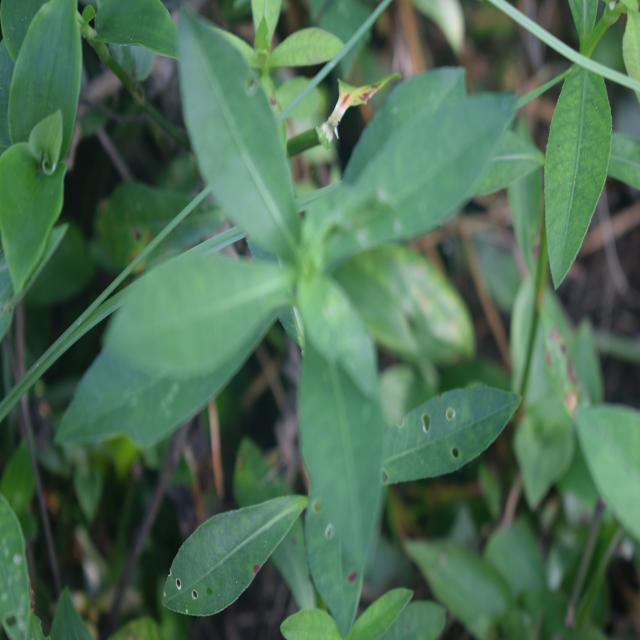Alligatorweed: (147, 48, 478, 554)
